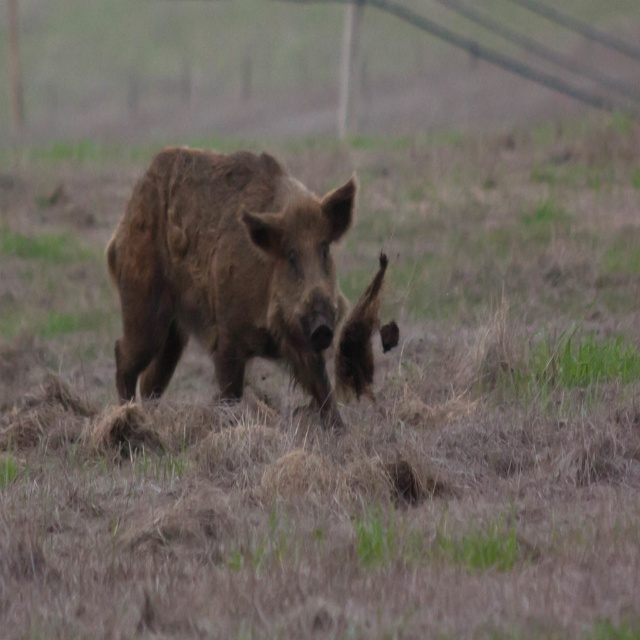Pig: (105, 145, 358, 438)
